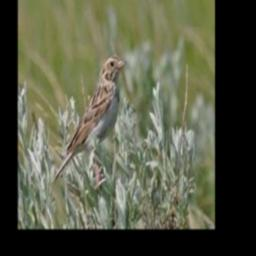Sparrow: (51, 53, 127, 194)
